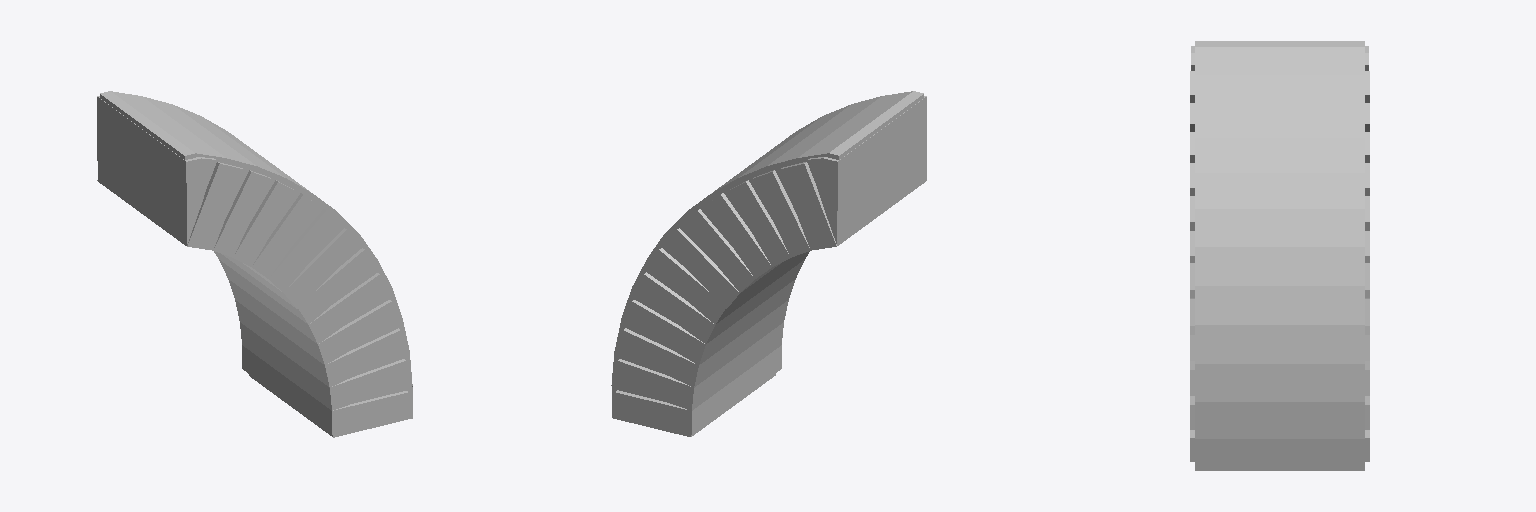
The model's file is lime_mortar_orange_clay_brick_gothic_arch_2.obj.
3 views of the same model, side by side, from view 1: azimuth 30°, elevation 25°; view 2: azimuth 150°, elevation 25°; view 3: azimuth 270°, elevation 25° (orthographic).
Parts seen in each view (by area): view 1: cube.025_cube.103, cube, cube.000, cube.001, cube.002, cube.003, cube.004, cube.005, cube.010, cube.006, cube.008, cube.007 (+7 smaller); view 2: cube.025_cube.103, cube, cube.000, cube.001, cube.002, cube.003, cube.004, cube.010, cube.005, cube.006, cube.009, cube.007 (+6 smaller); view 3: cube.015, cube.016, cube.017, cube.014, cube.018, cube.013, cube.019, cube.020, cube.021, cube.012, cube.022, cube.023 (+1 smaller).
Part boxes in pixels (x1,y1,x2,y2): cube.025_cube.103: (97, 96, 215, 245); cube: (242, 345, 408, 434); cube.000: (240, 322, 408, 410); cube.001: (235, 300, 405, 387); cube.002: (228, 279, 398, 364); cube.003: (219, 260, 388, 343); cube.004: (214, 248, 375, 324); cube.005: (222, 228, 359, 308); cube.010: (97, 162, 243, 250); cube.006: (243, 209, 340, 292); cube.008: (233, 180, 296, 266); cube.007: (252, 193, 319, 278); cube.025_cube.103: (808, 96, 926, 245); cube: (615, 345, 781, 434); cube.000: (615, 322, 783, 410); cube.001: (618, 300, 788, 387); cube.002: (625, 279, 795, 364); cube.003: (635, 260, 804, 343); cube.004: (648, 248, 809, 324); cube.010: (780, 162, 836, 250); cube.005: (664, 228, 801, 308); cube.006: (683, 209, 780, 292); cube.009: (753, 170, 810, 257); cube.007: (704, 193, 771, 278); cube.015: (1195, 325, 1364, 363); cube.016: (1195, 286, 1364, 324); cube.017: (1195, 247, 1364, 285); cube.014: (1195, 364, 1364, 401); cube.018: (1195, 209, 1364, 246); cube.013: (1195, 402, 1364, 438); cube.019: (1195, 173, 1364, 208); cube.020: (1195, 138, 1364, 172); cube.021: (1195, 105, 1364, 137); cube.012: (1195, 439, 1364, 470); cube.022: (1195, 75, 1364, 104); cube.023: (1195, 47, 1364, 74).
Bounding box in the file's own units: 1.56 × 2.08 × 1.07.